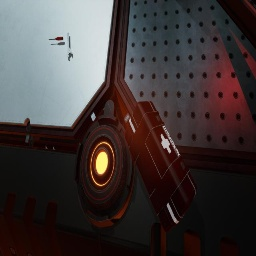FirstAidBox ,: (125, 101, 197, 232)
